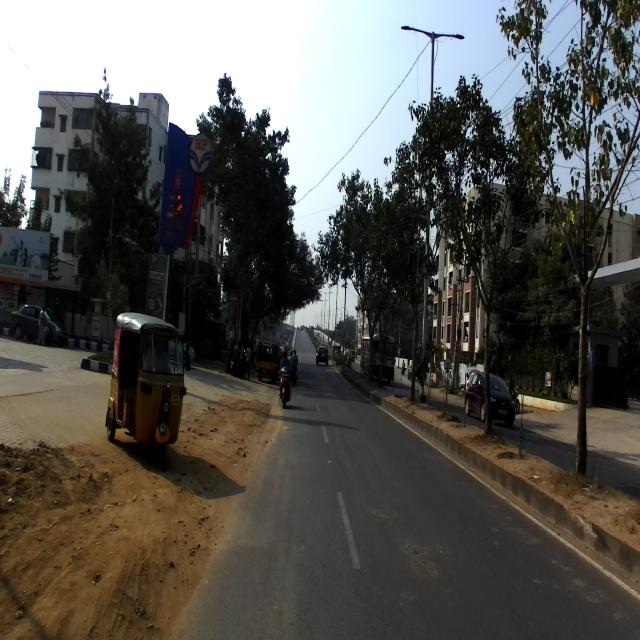auto ahead at: (104, 311, 185, 470)
